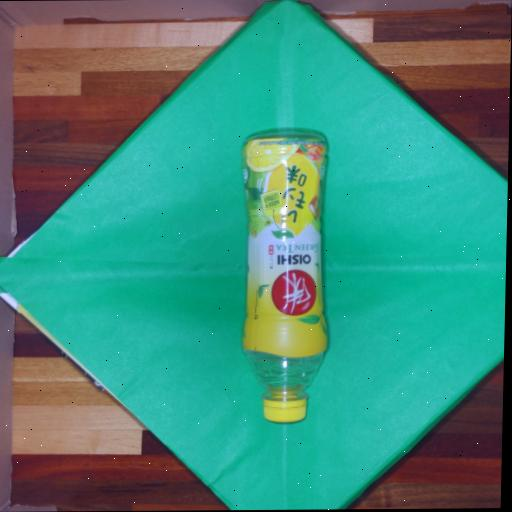bottle: (228, 97, 346, 457)
